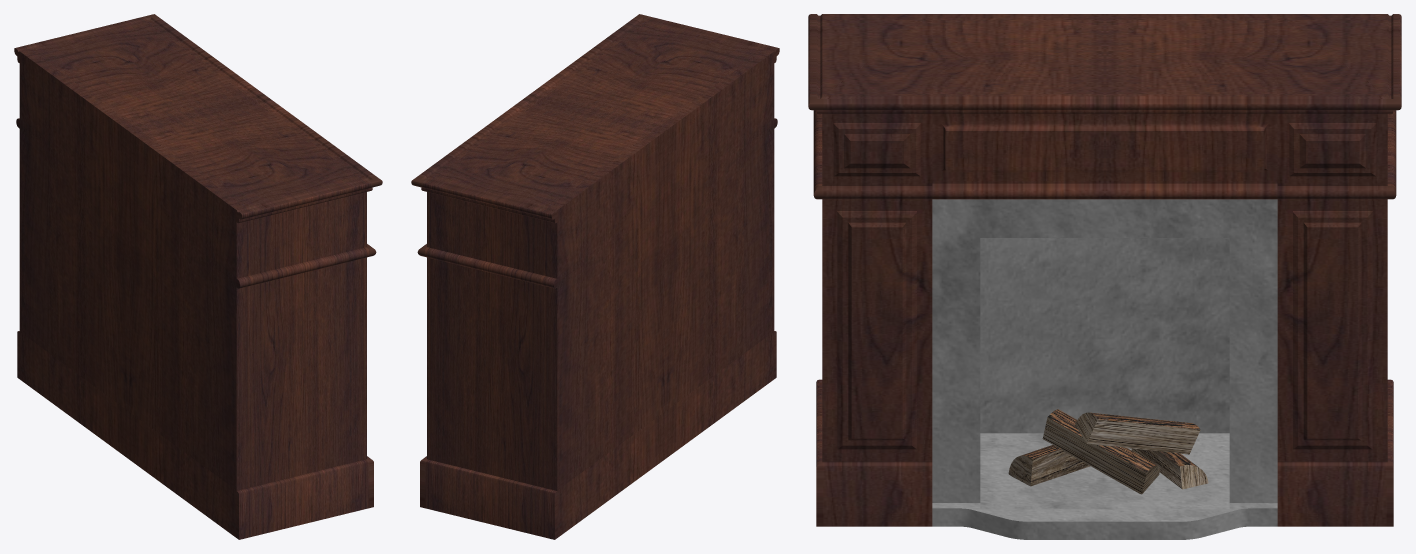
Rendered from Kamin.fbx.
3 renders of one model, left to right at view 1: azimuth 30°, elevation 25°; view 2: azimuth 150°, elevation 25°; view 3: azimuth 270°, elevation 25°, orthographic. The views are drawn at different scales.
Visible parts, largest first — view 1: Cube; view 2: Cube; view 3: Cube, Cylinder.007, Cylinder.006, Cylinder.004, Cylinder.005.
Part boxes in pixels (x1,y1,x2,y2): Cube: (14,14,382,539); Cube: (411,14,779,539); Cube: (808,14,1401,539); Cylinder.007: (1075,412,1200,454); Cylinder.006: (1042,409,1159,494); Cylinder.004: (1008,445,1090,486); Cylinder.005: (1131,448,1208,489).
Bounding box in the file's own units: 74.6 × 150 × 189.
